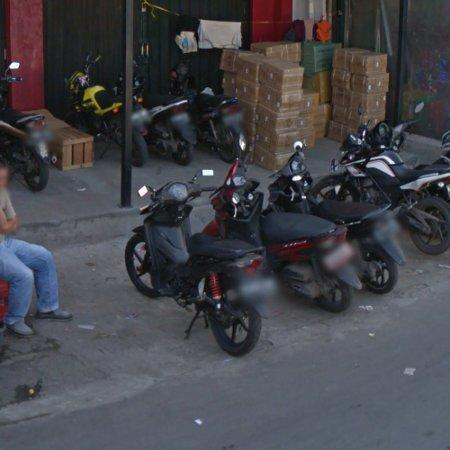motorcycles: (125, 170, 277, 356), (205, 141, 362, 312), (269, 142, 407, 293), (311, 123, 450, 255)
